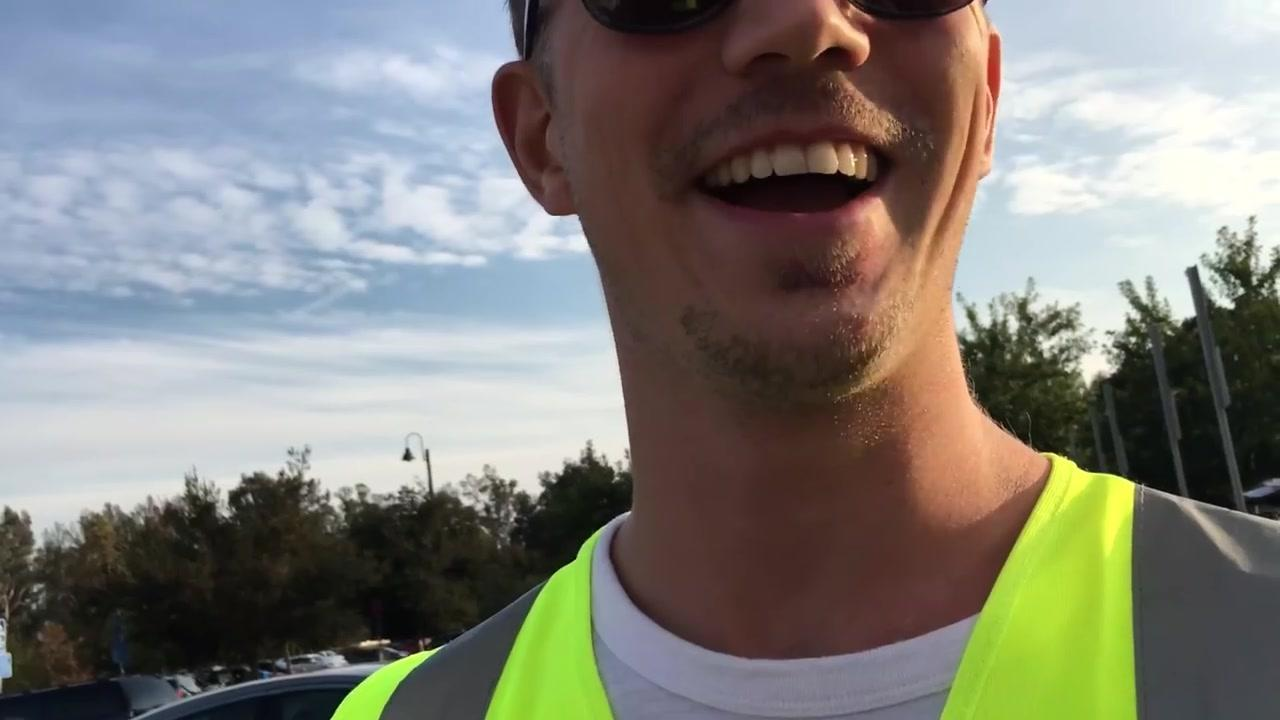vest: (329, 453, 1279, 718)
